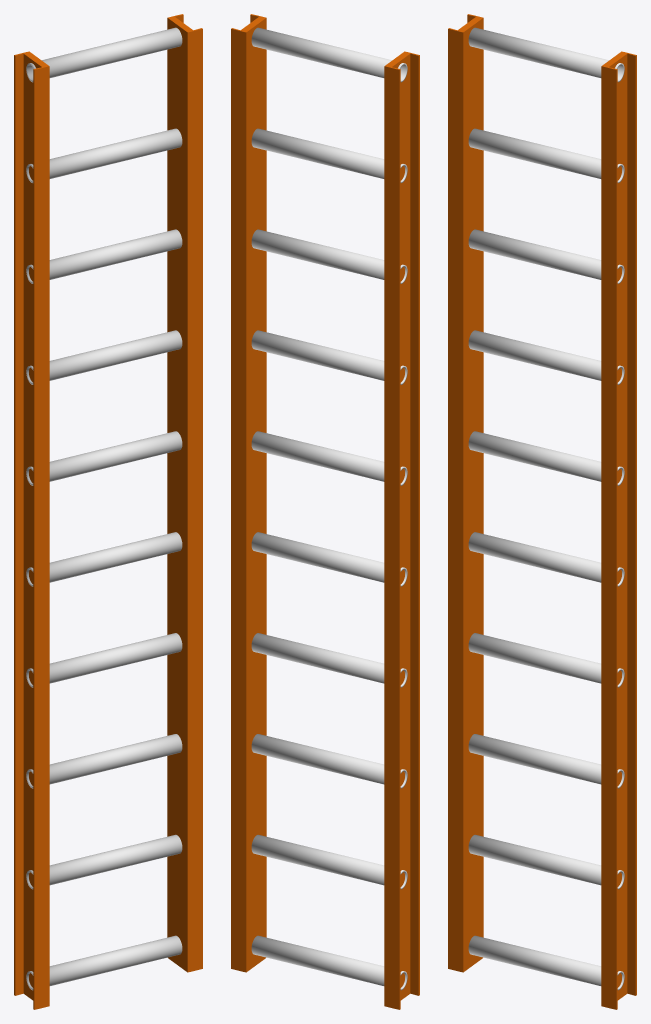
Rendered from ladder.fbx.
3 views of the same model, side by side, from view 1: azimuth 30°, elevation 25°; view 2: azimuth 150°, elevation 25°; view 3: azimuth 330°, elevation 25° (orthographic).
Parts seen in each view (by area): view 1: Ladder, Rungs; view 2: Ladder, Rungs; view 3: Ladder, Rungs.
Part boxes in pixels (bbox=[...]): Ladder: bbox=[14, 14, 202, 1009]; Rungs: bbox=[26, 27, 182, 990]; Ladder: bbox=[231, 14, 419, 1009]; Rungs: bbox=[251, 27, 407, 990]; Ladder: bbox=[448, 14, 636, 1009]; Rungs: bbox=[468, 27, 624, 990].
Size of the model in its own units: 45.72 by 244 by 9.53.
